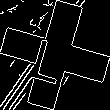L_N: (33, 26, 77, 84)
